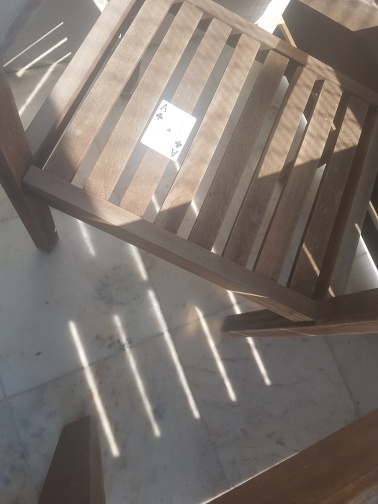ace: (139, 97, 198, 162)
